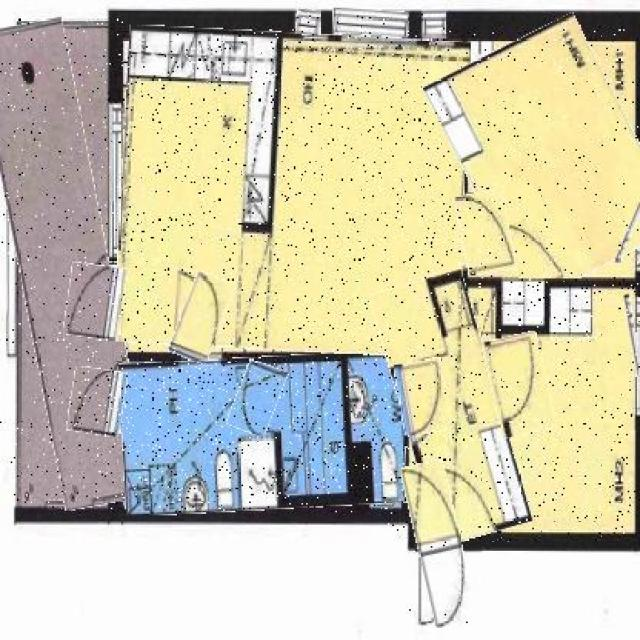door: (409, 460, 471, 628), (488, 334, 552, 435), (175, 274, 228, 363), (65, 263, 126, 339), (458, 191, 512, 274), (397, 358, 449, 434), (68, 368, 126, 435), (232, 362, 282, 436)
window: (332, 9, 408, 37), (624, 155, 640, 266), (627, 294, 640, 414), (422, 11, 446, 35), (297, 11, 320, 35)
zone: (119, 29, 466, 356), (0, 18, 131, 510), (444, 24, 640, 287), (120, 354, 405, 512), (386, 274, 516, 543), (500, 278, 635, 537)
